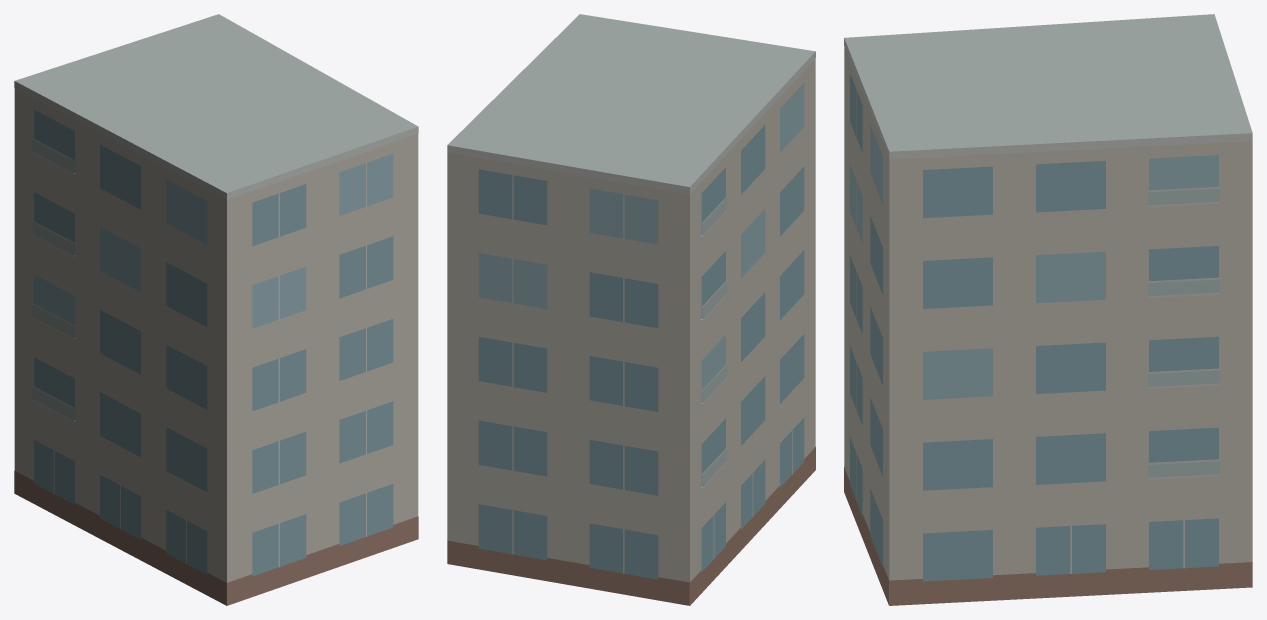
The model's file is survey-upis-32746697.glb.
3 renders of one model, left to right at view 1: azimuth 30°, elevation 25°; view 2: azimuth 150°, elevation 25°; view 3: azimuth 270°, elevation 25°, orthographic. The views are drawn at different scales.
Parts seen in each view (by area): view 1: survey-upis-32746697.tmp; view 2: survey-upis-32746697.tmp; view 3: survey-upis-32746697.tmp.
Part boxes in pixels (<box>): survey-upis-32746697.tmp: <box>14,14,418,605</box>; survey-upis-32746697.tmp: <box>447,14,815,605</box>; survey-upis-32746697.tmp: <box>844,14,1252,605</box>.
Size of the model in its own units: 9.3 by 14.3 by 11.67.
